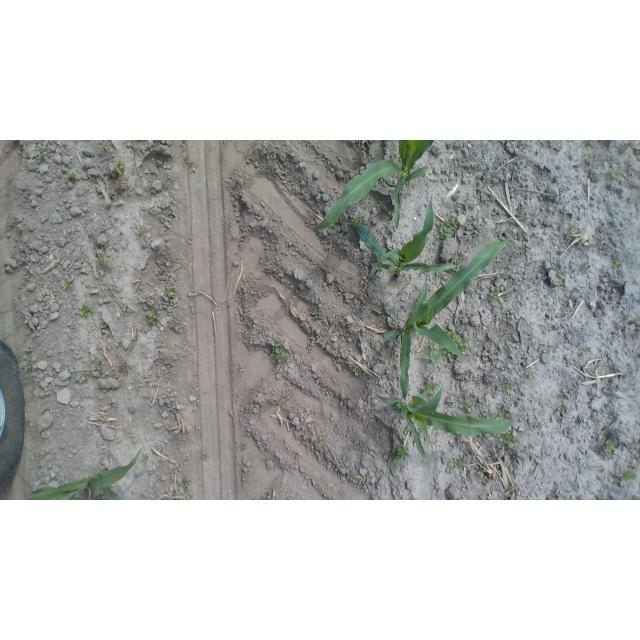Maize: (384, 238, 519, 403), (378, 380, 515, 464), (314, 141, 435, 232), (346, 195, 459, 279), (24, 447, 143, 500)
Weeds: (270, 336, 289, 364), (423, 340, 444, 365), (437, 217, 459, 240), (552, 268, 568, 292), (497, 430, 520, 445), (391, 445, 409, 464), (61, 168, 80, 185), (144, 307, 160, 327), (619, 467, 640, 482), (111, 157, 126, 176), (96, 252, 113, 268), (449, 457, 464, 473), (135, 223, 151, 238), (602, 439, 616, 456), (80, 304, 96, 317), (459, 342, 470, 360), (610, 164, 624, 178), (447, 331, 462, 344), (624, 312, 640, 324), (504, 378, 516, 394), (584, 148, 595, 165), (119, 363, 132, 377), (181, 476, 192, 492), (567, 223, 580, 236), (463, 399, 475, 413), (93, 360, 104, 375), (422, 384, 435, 396), (352, 215, 364, 228), (490, 287, 503, 299), (311, 311, 325, 322), (138, 450, 149, 464), (452, 259, 464, 271), (20, 360, 32, 372), (60, 278, 72, 290), (474, 158, 486, 169), (443, 348, 454, 360), (164, 288, 176, 299), (612, 256, 622, 269), (476, 466, 487, 477), (623, 140, 637, 148), (371, 418, 382, 428), (352, 366, 362, 377), (99, 142, 110, 152), (38, 148, 47, 160), (558, 403, 568, 413), (363, 473, 372, 484), (492, 412, 503, 421), (81, 372, 92, 381), (584, 242, 596, 250), (188, 160, 196, 172), (582, 261, 591, 271), (536, 421, 545, 431), (120, 302, 128, 312), (516, 214, 526, 221), (482, 174, 489, 183), (160, 341, 168, 348), (609, 369, 620, 374), (549, 496, 562, 500), (113, 341, 120, 348), (529, 372, 536, 379), (584, 347, 592, 353), (319, 435, 327, 441), (436, 380, 442, 388), (423, 296, 429, 304), (313, 226, 321, 232), (586, 140, 597, 144), (599, 496, 607, 501), (100, 324, 108, 329), (240, 444, 245, 452), (163, 488, 170, 493), (464, 140, 468, 146), (174, 492, 180, 496), (496, 451, 502, 455), (329, 224, 335, 228), (167, 498, 176, 500)
